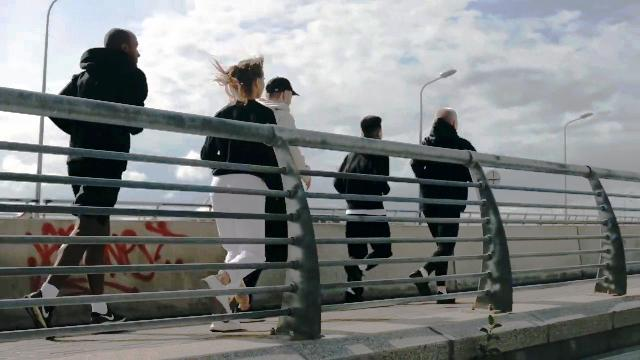berlari: (27, 26, 149, 342), (197, 58, 277, 338), (322, 112, 398, 303), (412, 110, 478, 308)
